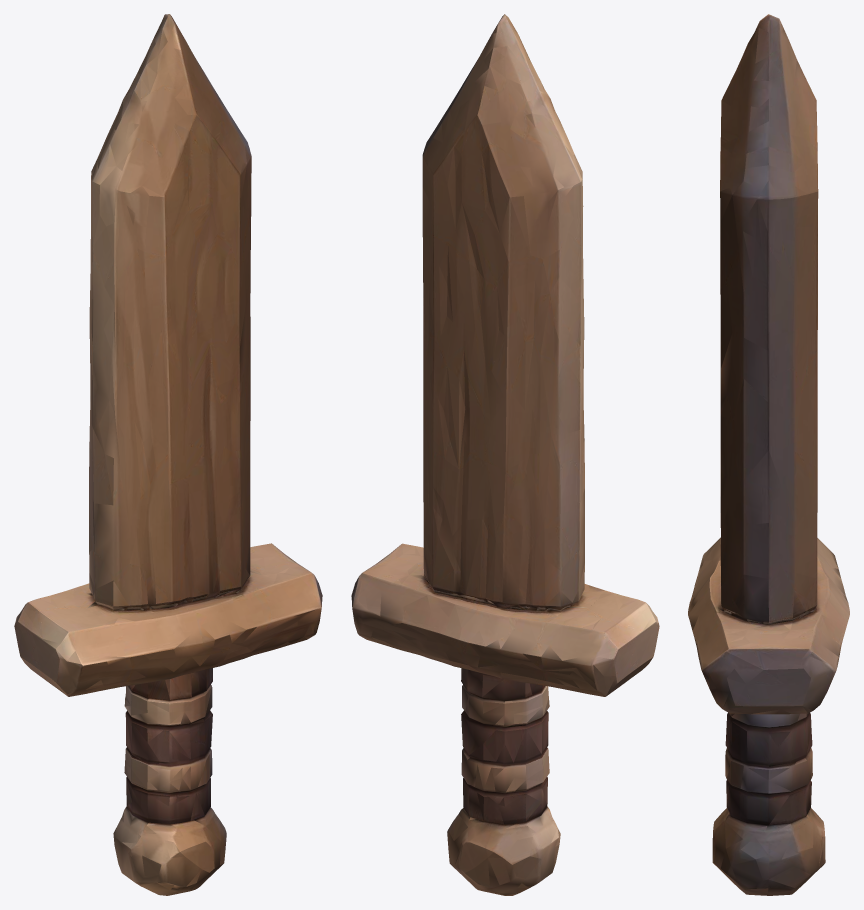
File: w_wood.glb
3 renders of one model, left to right at view 1: azimuth 30°, elevation 25°; view 2: azimuth 150°, elevation 25°; view 3: azimuth 270°, elevation 25°, orthographic.
Parts seen in each view (by area): view 1: Weapon; view 2: Weapon; view 3: Weapon.
Boxes of the visible parts, left/top/right/bottom form: Weapon: left=14, top=14, right=322, bottom=895; Weapon: left=351, top=14, right=659, bottom=895; Weapon: left=688, top=14, right=849, bottom=895.
Bounding box in the file's own units: 0.3128 × 0.9825 × 0.1647.
1 material, 1 textured.
